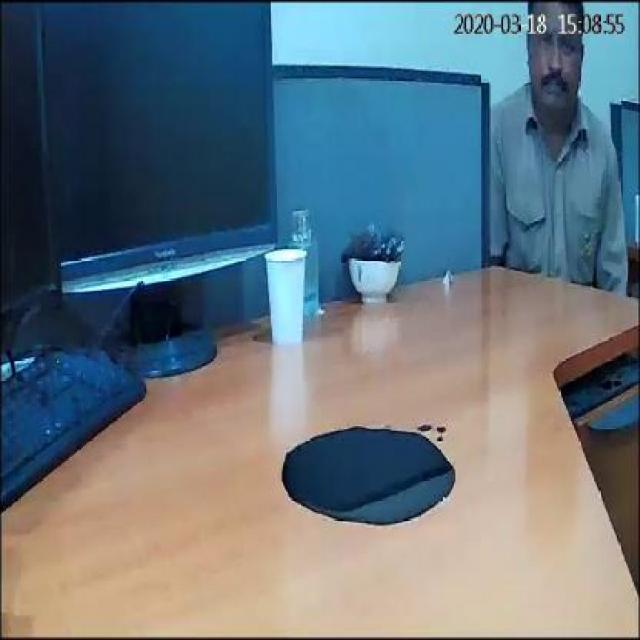spill: (273, 424, 456, 524)
